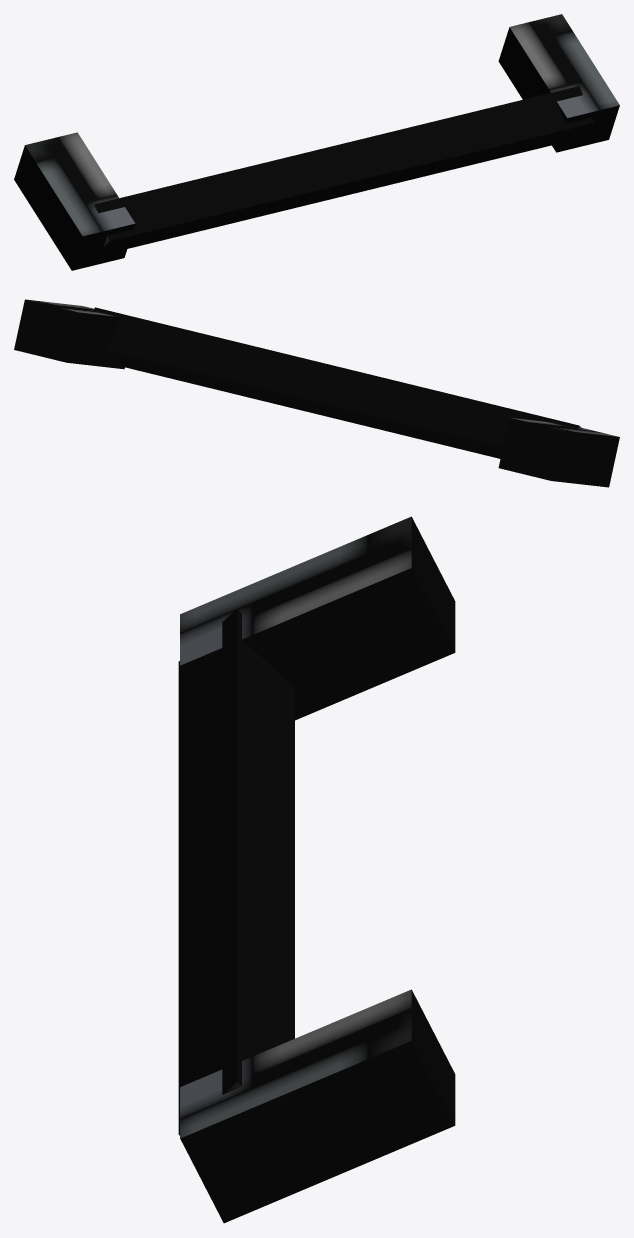
File: anti_roll_bar.obj
3 views of the same model, one above another, from view 1: azimuth 30°, elevation 25°; view 2: azimuth 150°, elevation 25°; view 3: azimuth 270°, elevation 25° (orthographic). The views are drawn at different scales.
Visible parts, largest first — view 1: ad894420-d9a2-be8f-3b51-e192651c10ab, 228709f9-db6f-2326-1219-a4ed144b9b10, 13ad7b7b-d7c6-afa5-e2f8-eac8e5d75df6; view 2: ad894420-d9a2-be8f-3b51-e192651c10ab, 228709f9-db6f-2326-1219-a4ed144b9b10, 13ad7b7b-d7c6-afa5-e2f8-eac8e5d75df6; view 3: ad894420-d9a2-be8f-3b51-e192651c10ab, 13ad7b7b-d7c6-afa5-e2f8-eac8e5d75df6, 228709f9-db6f-2326-1219-a4ed144b9b10.
Boxes of the visible parts, <box> form: ad894420-d9a2-be8f-3b51-e192651c10ab: <box>93,86,593,248</box>; 228709f9-db6f-2326-1219-a4ed144b9b10: <box>14,132,135,270</box>; 13ad7b7b-d7c6-afa5-e2f8-eac8e5d75df6: <box>498,14,619,152</box>; ad894420-d9a2-be8f-3b51-e192651c10ab: <box>94,307,582,458</box>; 228709f9-db6f-2326-1219-a4ed144b9b10: <box>498,417,619,487</box>; 13ad7b7b-d7c6-afa5-e2f8-eac8e5d75df6: <box>14,299,124,369</box>; ad894420-d9a2-be8f-3b51-e192651c10ab: <box>178,609,294,1135</box>; 13ad7b7b-d7c6-afa5-e2f8-eac8e5d75df6: <box>180,989,455,1223</box>; 228709f9-db6f-2326-1219-a4ed144b9b10: <box>180,516,455,720</box>.
Size of the model in its own units: 1.27 by 0.2072 by 0.2844.
